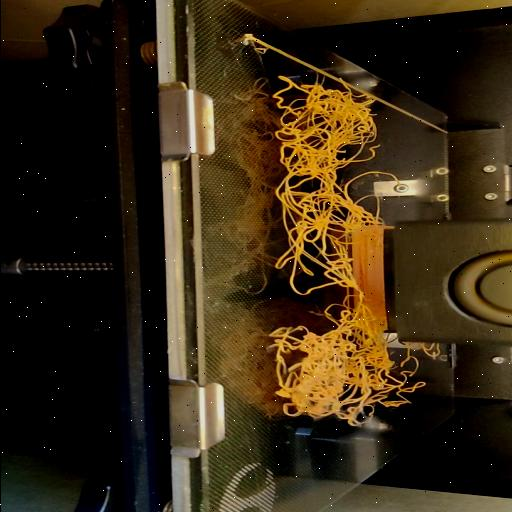spaghetti: (264, 76, 385, 420), (384, 342, 444, 409), (382, 170, 400, 190)
